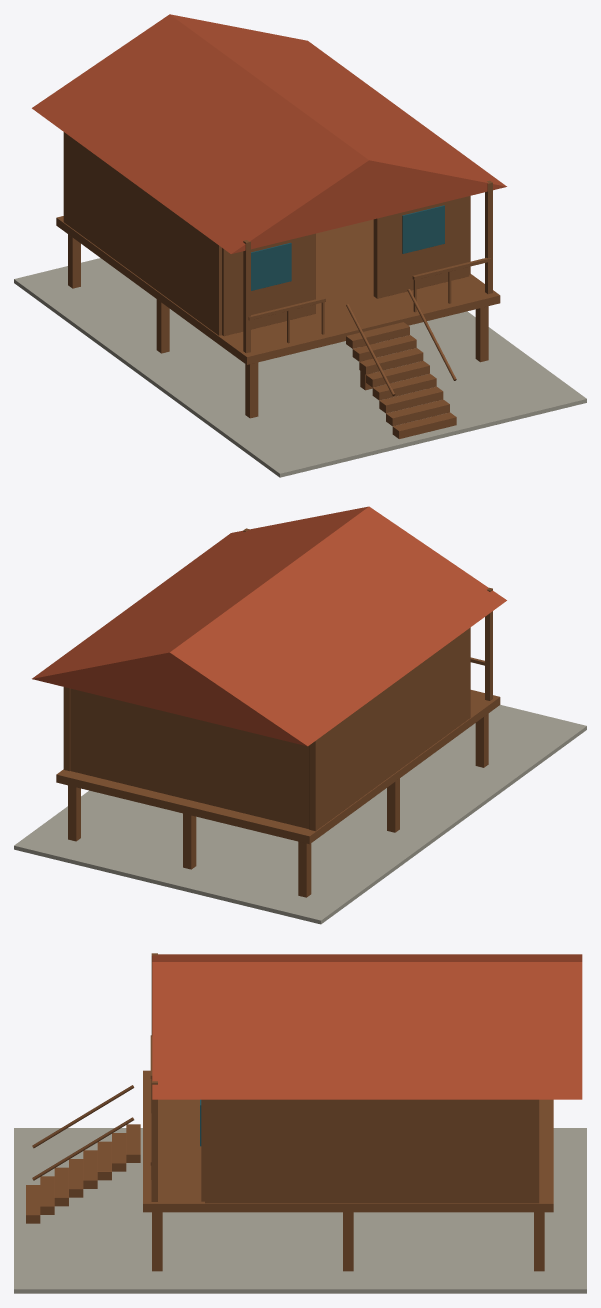
Rendered from source-edit.glb.
3 renders of one model, top to bottom at view 1: azimuth 30°, elevation 25°; view 2: azimuth 150°, elevation 25°; view 3: azimuth 270°, elevation 25°, orthographic. The views are drawn at different scales.
Visible parts, largest first — view 1: Pitched_Timber_Roof, Ground_Pads, Side_Wall, Elevated_Floor, Entry_Wall.001, Entry_Wall, Front_Window.001, Front_Window, Stair, Stair.002, Stair.001, Stair.003 (+10 smaller); view 2: Pitched_Timber_Roof, Ground_Pads, Rear_Wall, Side_Wall, Elevated_Floor, Stilt.002, Stilt.005, Veranda_Post, Stilt.008, Stilt, Side_Wall.001, Stilt.001; view 3: Pitched_Timber_Roof, Ground_Pads, Side_Wall.001, Elevated_Floor, Veranda_Post.001, Stilt.006, Stilt.007, Stilt.008, Stair.002, Stair.005, Stair, Stair.001 (+6 smaller).
Boxes of the visible parts, bbox=[...] form: Pitched_Timber_Roof: bbox=[32, 14, 506, 253]; Ground_Pads: bbox=[14, 258, 586, 477]; Side_Wall: bbox=[63, 132, 221, 335]; Elevated_Floor: bbox=[56, 216, 500, 364]; Entry_Wall.001: bbox=[373, 196, 469, 298]; Entry_Wall: bbox=[222, 233, 315, 336]; Front_Window.001: bbox=[402, 205, 444, 253]; Front_Window: bbox=[251, 242, 291, 290]; Stair: bbox=[392, 412, 456, 438]; Stair.002: bbox=[379, 386, 443, 413]; Stair.001: bbox=[386, 399, 449, 426]; Stair.003: bbox=[372, 373, 436, 400]; Pitched_Timber_Roof: bbox=[32, 506, 506, 746]; Ground_Pads: bbox=[14, 705, 586, 924]; Rear_Wall: bbox=[70, 688, 309, 828]; Side_Wall: bbox=[309, 627, 470, 831]; Elevated_Floor: bbox=[56, 690, 500, 844]; Stilt.002: bbox=[298, 841, 311, 897]; Stilt.005: bbox=[183, 813, 196, 869]; Veranda_Post: bbox=[485, 587, 492, 700]; Stilt.008: bbox=[68, 785, 80, 841]; Stilt: bbox=[475, 713, 488, 767]; Side_Wall.001: bbox=[63, 687, 70, 771]; Stilt.001: bbox=[387, 778, 399, 832]; Pitched_Timber_Roof: bbox=[152, 954, 582, 1099]; Ground_Pads: bbox=[14, 1128, 586, 1293]; Side_Wall.001: bbox=[205, 1099, 539, 1203]; Elevated_Floor: bbox=[143, 1070, 553, 1212]; Veranda_Post.001: bbox=[151, 1081, 157, 1201]; Stilt.006: bbox=[152, 1212, 162, 1271]; Stilt.007: bbox=[343, 1212, 353, 1271]; Stilt.008: bbox=[534, 1212, 544, 1271]; Stair.002: bbox=[54, 1167, 68, 1206]; Stair.005: bbox=[97, 1141, 111, 1180]; Stair: bbox=[26, 1185, 40, 1223]; Stair.001: bbox=[40, 1176, 54, 1214].
Size of the model in its own units: 8 by 5.8 by 12.
